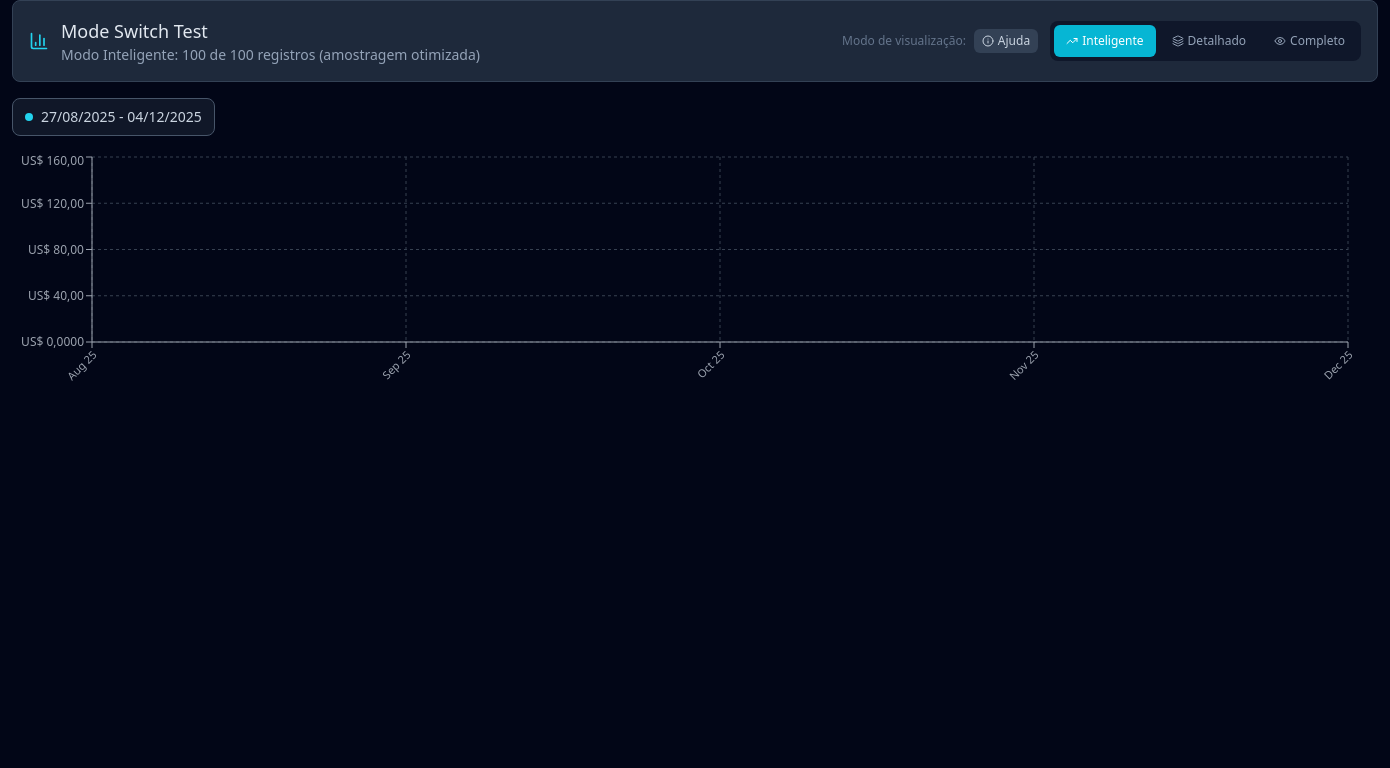
VirtualizedChart › switches between visualization modes
Click the button "Detalhado" at coordinates (1209, 41), box [1160, 25, 1258, 57]
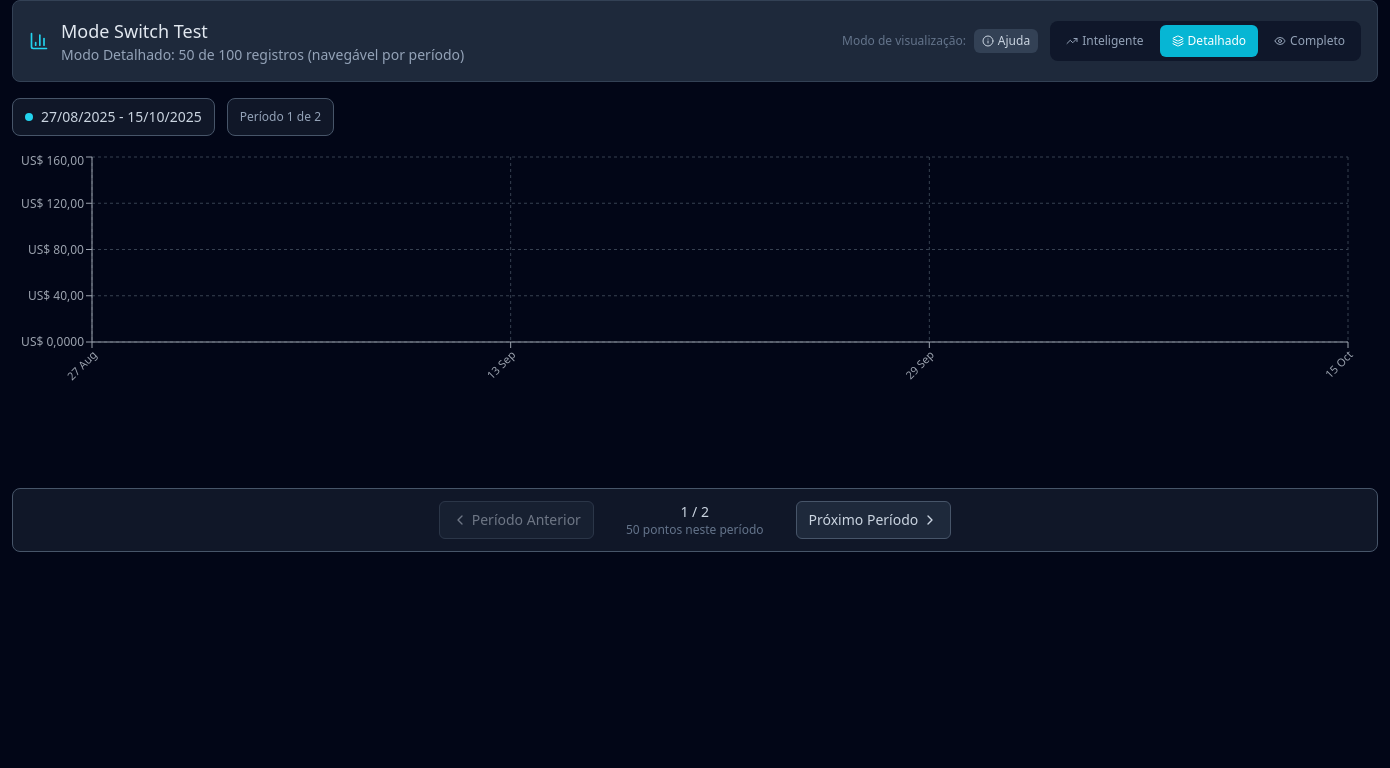
expect the text "Modo Detalhado: 50 de 100 registros (navegável por período)" is shown: met, box [61, 45, 464, 65]
Click the button "Completo" at coordinates (1310, 41), box [1262, 25, 1357, 57]
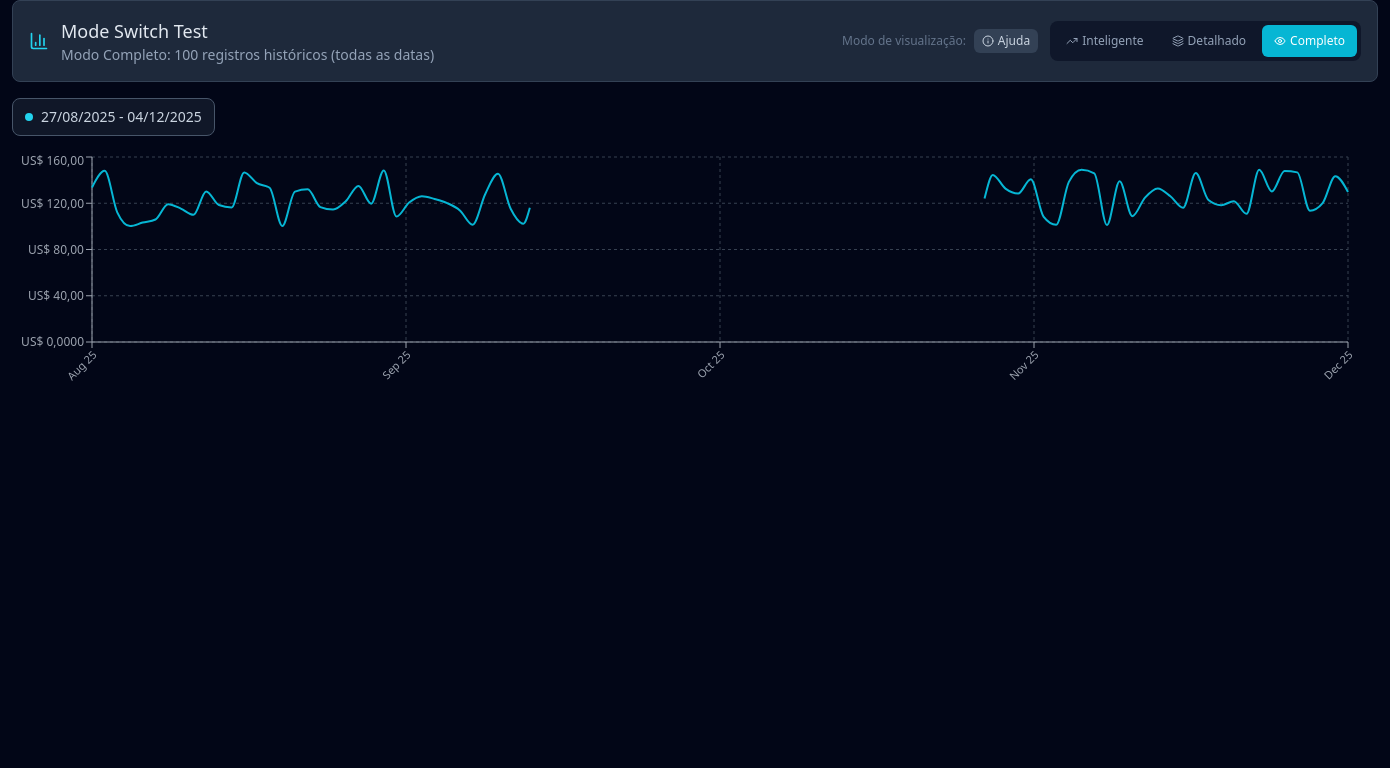
expect the text "Modo Completo: 100 registros históricos (todas as datas)" is shown: met, box [61, 45, 434, 65]
